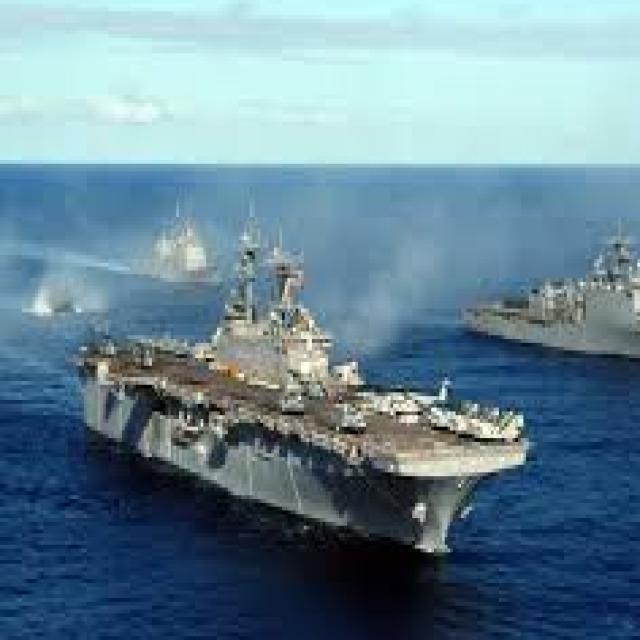navalvessels: (76, 220, 526, 582), (464, 213, 640, 373), (161, 196, 221, 279)
